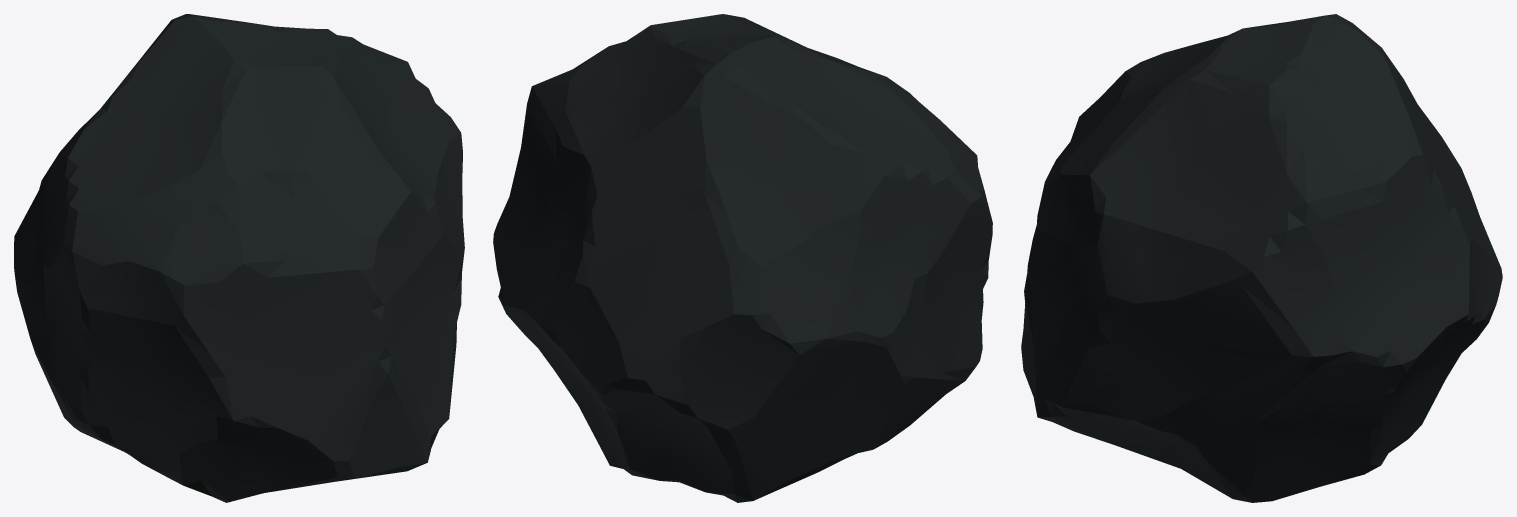
Rendered from Asteroid_l_05.FBX.
3 views of the same model, side by side, from view 1: azimuth 30°, elevation 25°; view 2: azimuth 150°, elevation 25°; view 3: azimuth 270°, elevation 25° (orthographic).
Visible parts, largest first — view 1: Asteroid_l_05; view 2: Asteroid_l_05; view 3: Asteroid_l_05.
Boxes of the visible parts, bbox=[...] form: Asteroid_l_05: bbox=[14, 14, 464, 502]; Asteroid_l_05: bbox=[493, 14, 992, 502]; Asteroid_l_05: bbox=[1021, 14, 1502, 502].
Size of the model in its own units: 1038 by 1033 by 1039.
